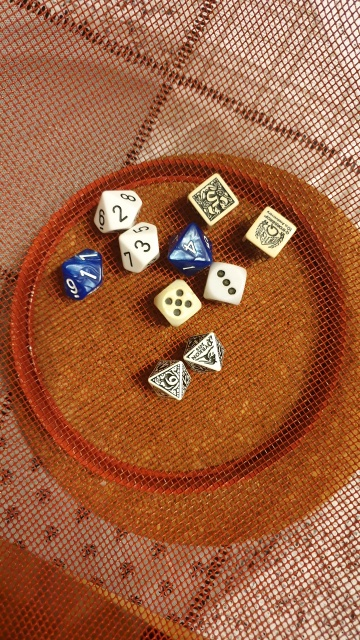d10-1: (54, 247, 110, 303)
d10-2: (88, 186, 145, 233)
d10-3: (113, 219, 162, 277)
d10-4: (163, 225, 213, 275)
d6-3: (202, 258, 250, 308)
d6-5: (150, 278, 205, 330)
d6p-5: (188, 173, 240, 229)
d6p-6: (243, 202, 297, 261)
d8p-1: (179, 329, 229, 378)
d8p-6: (144, 354, 194, 402)
